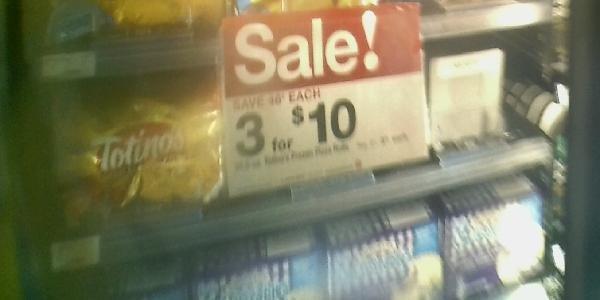icecream: (50, 83, 224, 217)
